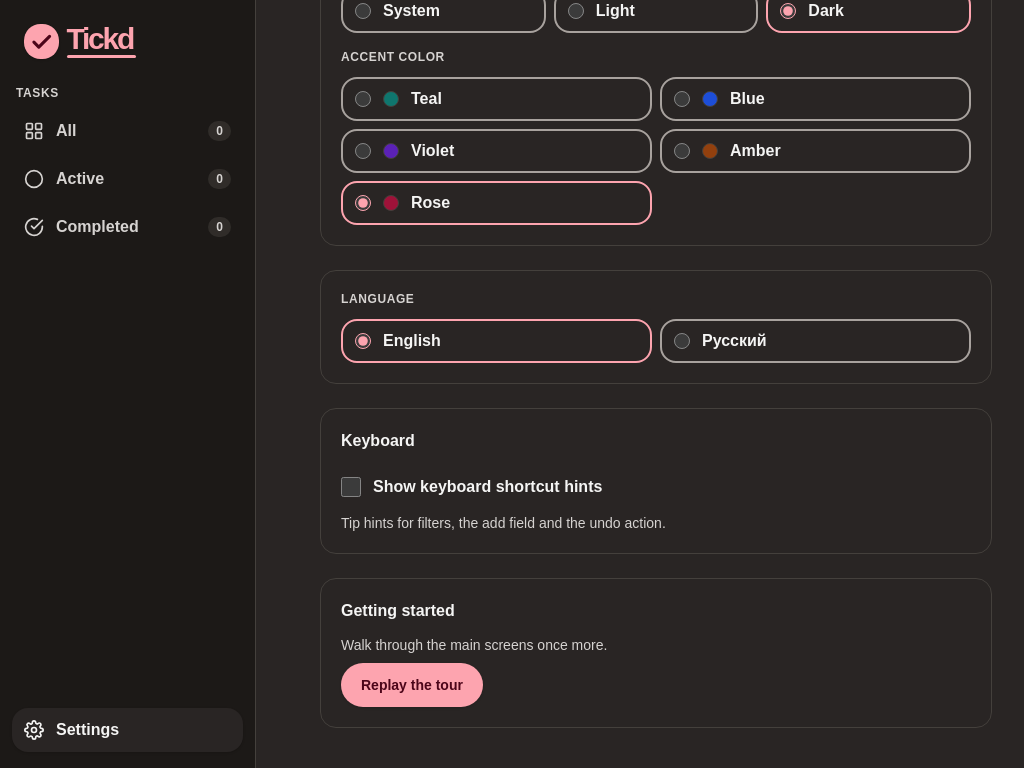
Test: replay › reopens the tour from settings and returns to the task list
(page scrolled)
Click the button "Replay the tour" at (412, 685), box [341,663,483,707]
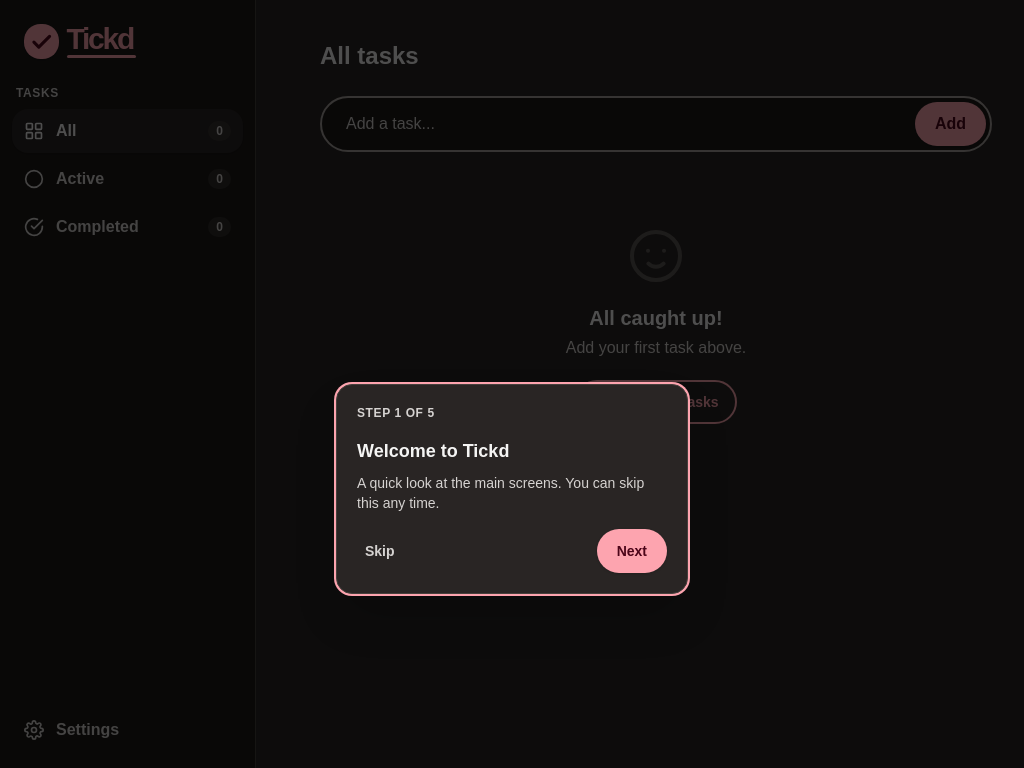
expect the dialog is shown: met, box [336,384,688,594]
expect the heading "All tasks" is shown: met, box [320,40,419,72]
